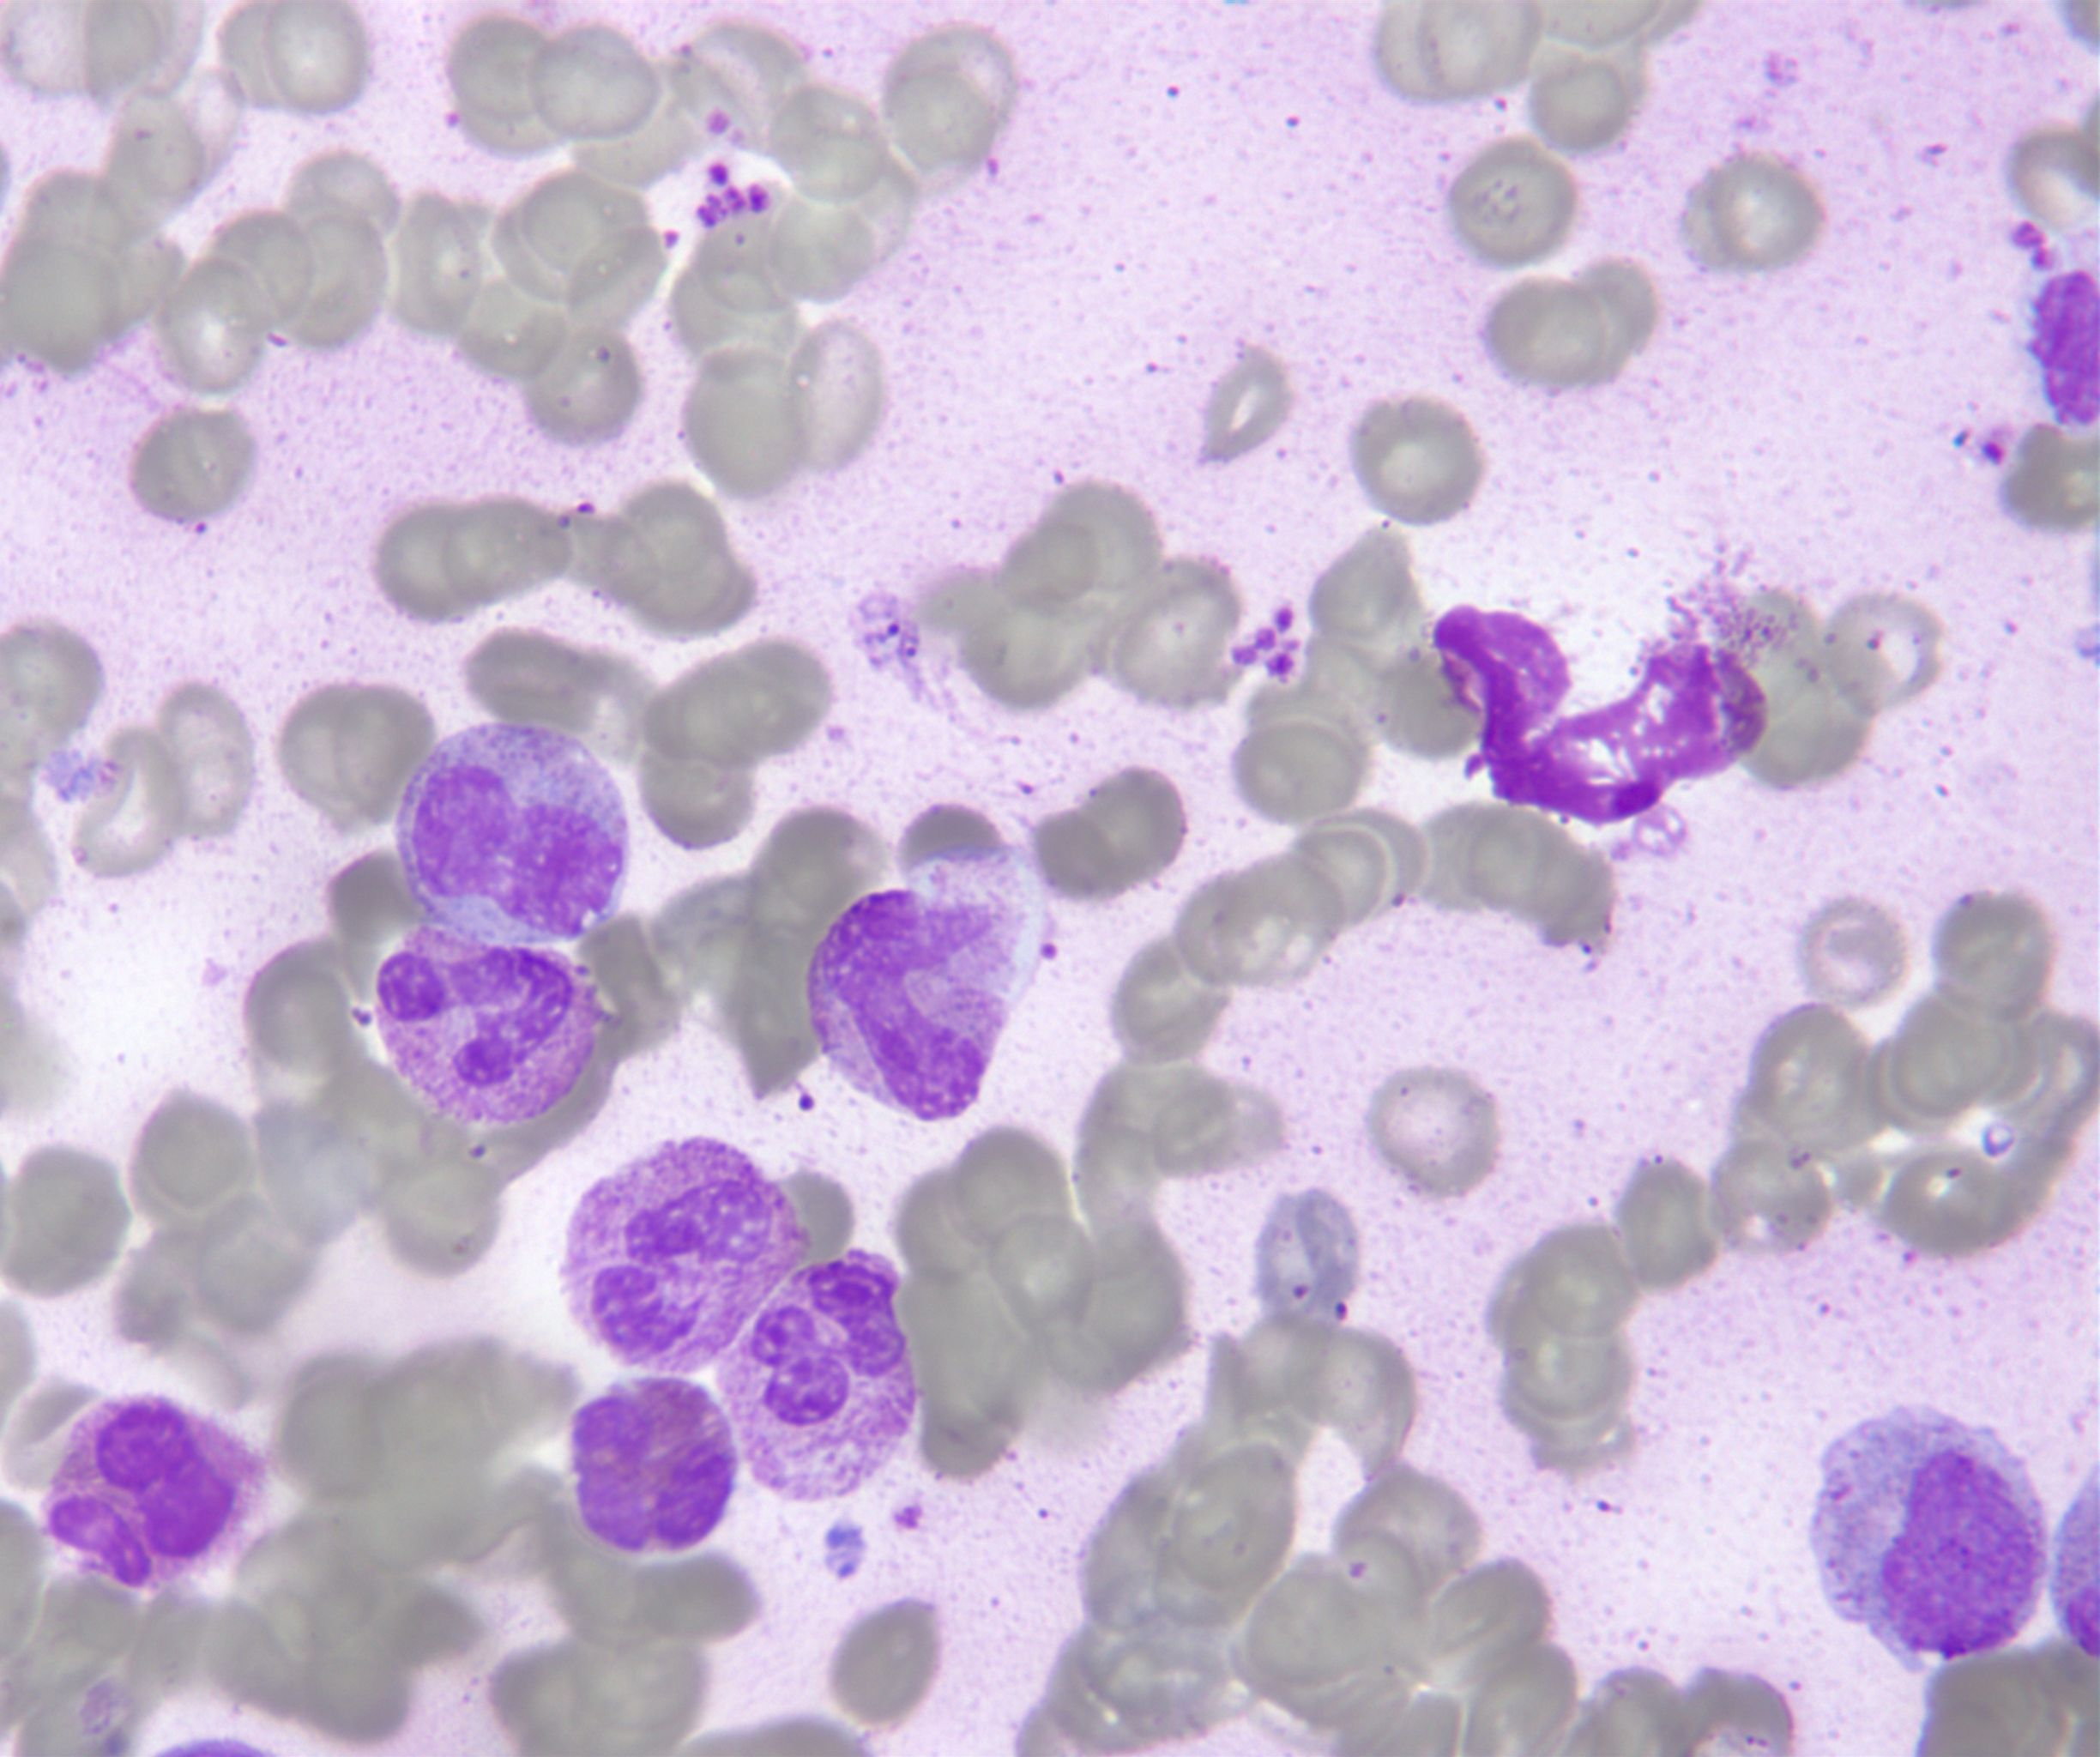2: (1809, 1403, 2046, 1673)
3: (396, 722, 631, 944)
4: (808, 848, 1045, 1122)
5: (373, 926, 602, 1124)
6: (560, 1136, 809, 1371), (720, 1248, 916, 1502)
E4: (572, 1378, 736, 1551)
x: (40, 1392, 269, 1595)
